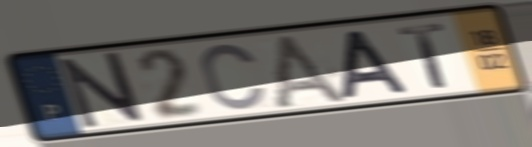2: (133, 47, 207, 123)
A: (268, 31, 354, 109), (339, 27, 414, 102)
C: (198, 41, 270, 112)
N: (55, 49, 148, 132)
T: (393, 20, 454, 91)
